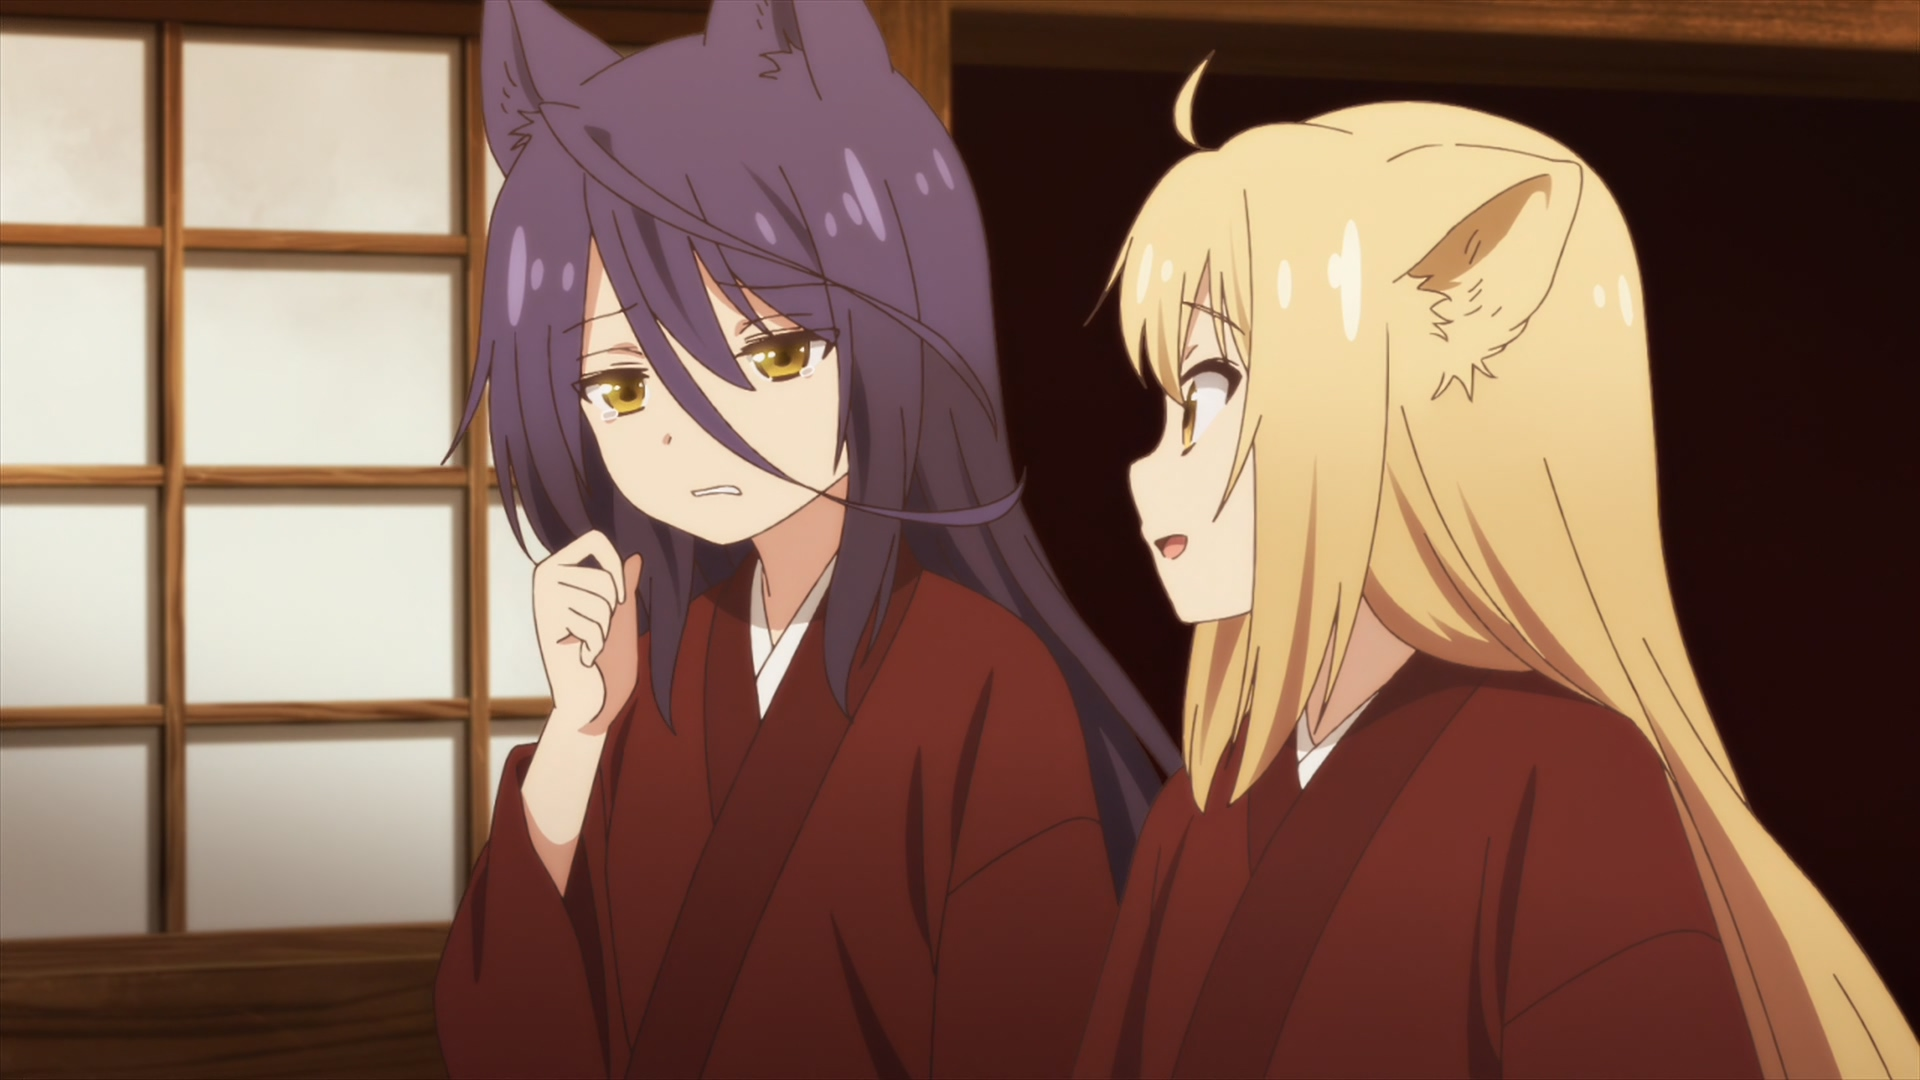柚: (1075, 47, 1920, 1080)
皋: (440, 1, 1185, 1080)
